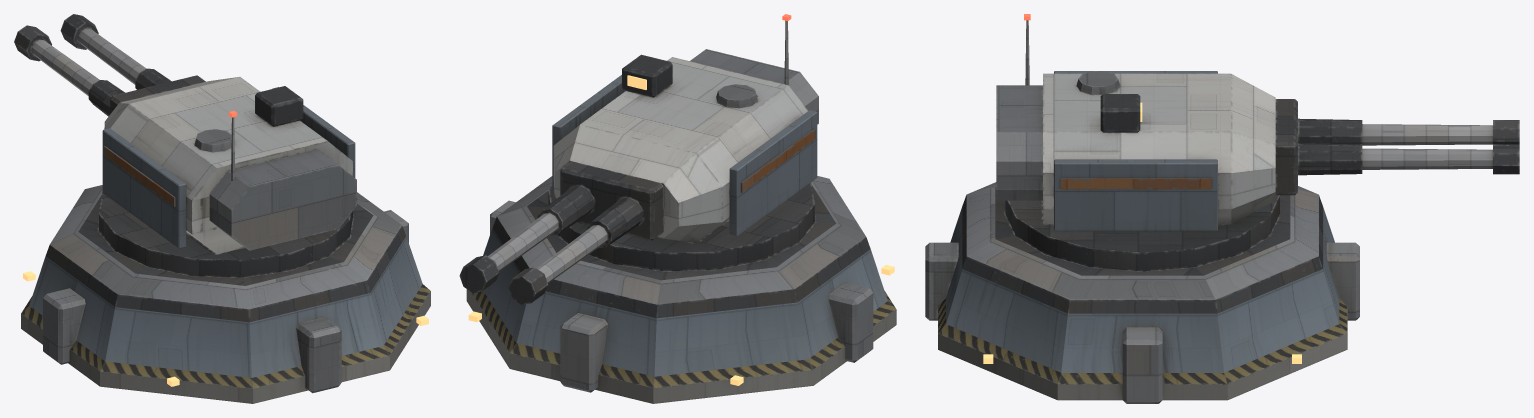
Rendered from ground_turret.glb.
3 renders of one model, left to right at view 1: azimuth 30°, elevation 25°; view 2: azimuth 150°, elevation 25°; view 3: azimuth 270°, elevation 25°, orthographic. The views are drawn at different scales.
Parts seen in each view (by area): view 1: ground_turret_hull, ground_turret_lights; view 2: ground_turret_hull, ground_turret_lights; view 3: ground_turret_hull.
Boxes of the visible parts, x1,y1,x2,y2 form: ground_turret_hull: (14, 14, 430, 403); ground_turret_lights: (23, 110, 428, 386); ground_turret_hull: (459, 20, 896, 403); ground_turret_lights: (468, 14, 894, 385); ground_turret_hull: (925, 20, 1519, 403).
Bounding box in the file's own units: 19.6 × 13.64 × 26.8.
Materials: 3 (1 with a texture image).
